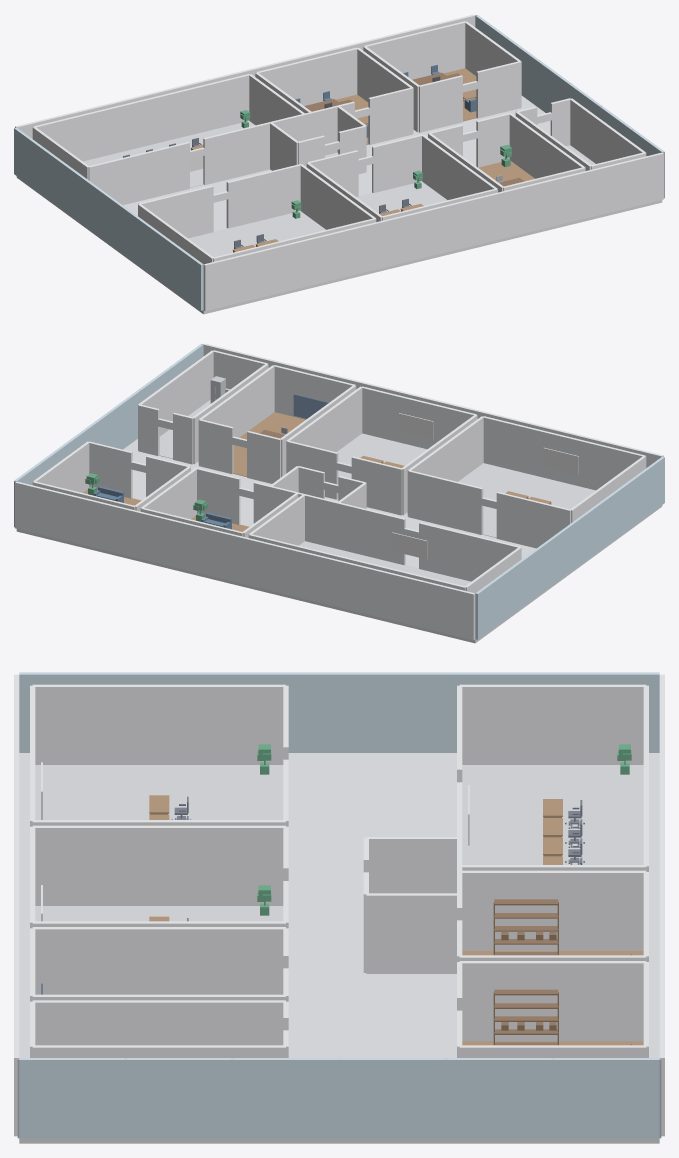
The model's file is floor_4_environment.glb.
The picture shows the model from 3 angles, top to bottom: view 1: azimuth 30°, elevation 25°; view 2: azimuth 150°, elevation 25°; view 3: azimuth 270°, elevation 25°; orthographic projection. The views are drawn at different scales.
Parts seen in each view (by area): view 1: wall_s, wall_w, w_finance_n, slab, w_finance_s_a, wall_e, w_gm_n, w_chairman_n, w_exec_n_b, w_finance_s_b, floor_exec, wall_n (+34 smaller); view 2: wall_n, wall_w, w_exec_s, w_finance_s_b, slab, wall_e, w_hr_s, w_exec_n_b, w_finance_s_a, floor_exec, w_exec_n_a, w_pantry4_e (+37 smaller); view 3: wall_e, slab, wall_w, w_exec_w, w_hr_w, w_boardroom_w, floor_finance, w_finance_w, w_chairman_w, w_gm_w, floor_exec, w_pantry4_w (+17 smaller).
Boxes of the visible parts, x1,y1,x2,y2 form: wall_s: (203,152,663,311); wall_w: (14,127,203,310); w_finance_n: (33,74,249,161); slab: (16,96,662,314); w_finance_s_a: (88,142,189,204); wall_e: (475,15,664,156); w_gm_n: (363,21,465,79); w_chairman_n: (256,47,357,105); w_exec_n_b: (226,164,300,228); w_finance_s_b: (203,114,302,184); floor_exec: (188,211,325,257); wall_n: (15,14,475,138); wall_n: (15,481,475,640); wall_w: (475,456,664,639); w_exec_s: (483,416,645,490); w_finance_s_b: (305,495,405,564); slab: (16,439,662,643); wall_e: (14,344,203,485); w_hr_s: (362,386,476,449); w_exec_n_b: (408,470,483,534); w_finance_s_a: (419,522,520,581); floor_exec: (458,463,595,537); w_exec_n_a: (496,492,570,548); w_pantry4_e: (138,350,213,450); wall_e: (19,1058,659,1138); slab: (19,753,659,1143); wall_w: (19,672,659,752); w_exec_w: (32,684,285,764); w_hr_w: (32,825,285,905); w_boardroom_w: (32,927,285,994); floor_finance: (462,765,643,864); w_finance_w: (459,684,646,764); w_chairman_w: (462,870,646,950); w_gm_w: (459,961,646,1041); floor_exec: (35,765,283,819); w_pantry4_w: (32,1000,285,1045).
Size of the model in its own units: 34.4 by 3.55 by 24.4.
